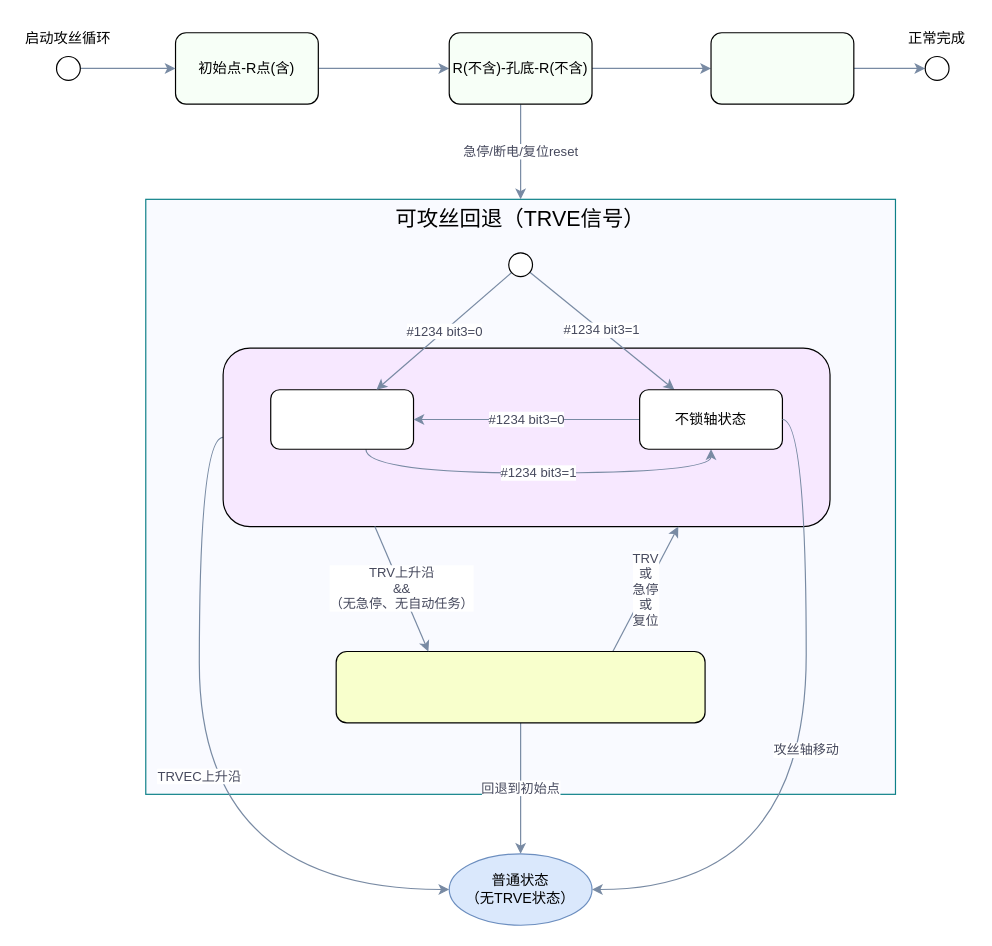
Some shapes in this 992 by 946 pixel diagram are drawn without their labels. Each missing label, with the centre of its shape:
R点(含)-初始点: (782,68)
伺服轴互锁: (342,419)
攻丝回退中: (520,686)
